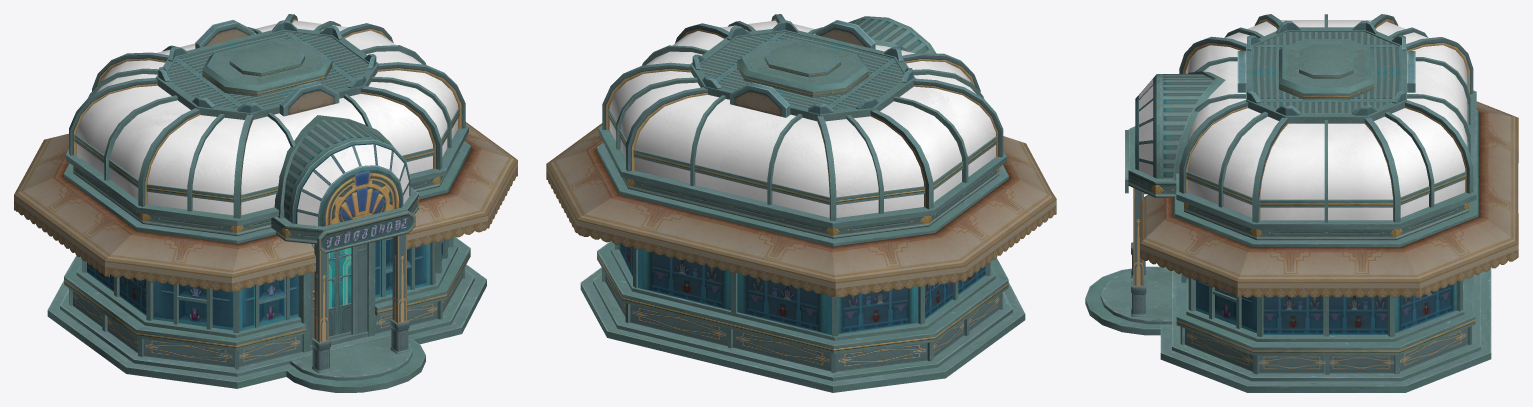
File: Homeworld_Exterior_Fd_Build_PerfumeStore_01_Lod0.fbx
The picture shows the model from 3 angles, left to right: view 1: azimuth 30°, elevation 25°; view 2: azimuth 150°, elevation 25°; view 3: azimuth 270°, elevation 25°; orthographic projection.
Parts seen in each view (by area): view 1: Homeworld_Exterior_Fd_Build_PerfumeStore_01_Lod0; view 2: Homeworld_Exterior_Fd_Build_PerfumeStore_01_Lod0; view 3: Homeworld_Exterior_Fd_Build_PerfumeStore_01_Lod0.
Part boxes in pixels (x1,y1,x2,y2): Homeworld_Exterior_Fd_Build_PerfumeStore_01_Lod0: (14, 14, 517, 392); Homeworld_Exterior_Fd_Build_PerfumeStore_01_Lod0: (546, 14, 1056, 392); Homeworld_Exterior_Fd_Build_PerfumeStore_01_Lod0: (1085, 14, 1518, 392).
Size of what is drawn, in the model's own units: 10.9 by 6.21 by 9.82.
